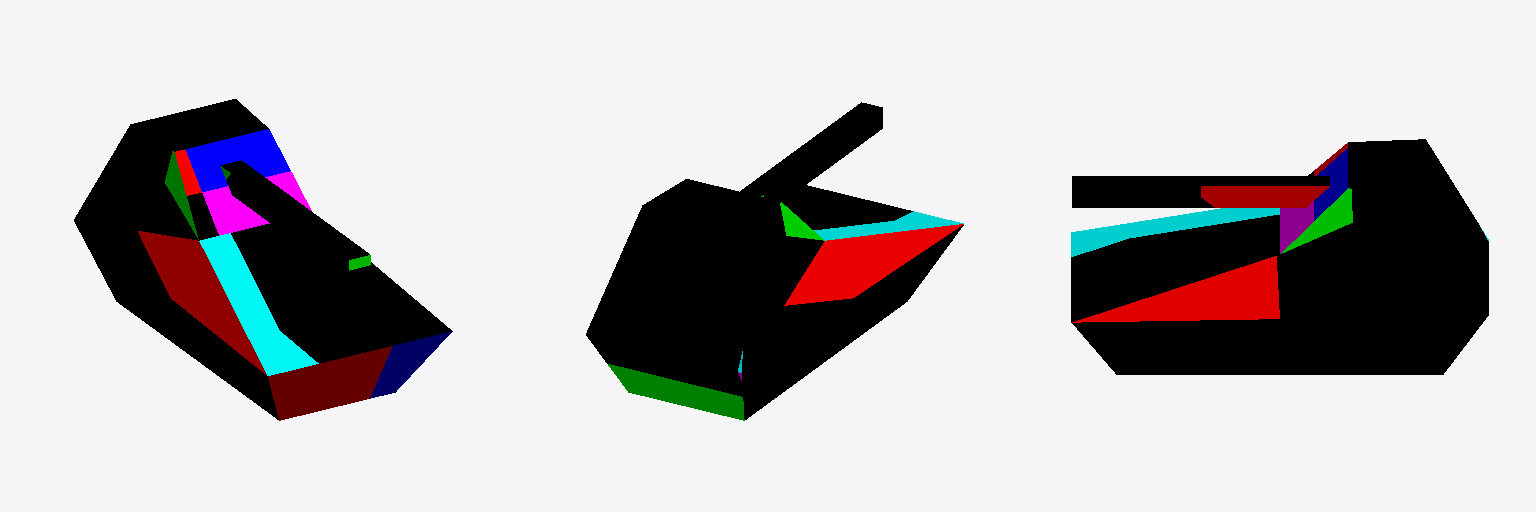
3 renders of one model, left to right at view 1: azimuth 30°, elevation 25°; view 2: azimuth 150°, elevation 25°; view 3: azimuth 270°, elevation 25°, orthographic.
Visible parts, largest first — view 1: HeavyTank; view 2: HeavyTank; view 3: HeavyTank.
Part boxes in pixels (bbox=[...]): HeavyTank: bbox=[74, 99, 452, 420]; HeavyTank: bbox=[586, 102, 963, 420]; HeavyTank: bbox=[1071, 139, 1488, 374].
Bounding box in the file's own units: 1.03 × 0.9641 × 2.
Materials: 1 (1 with a texture image).